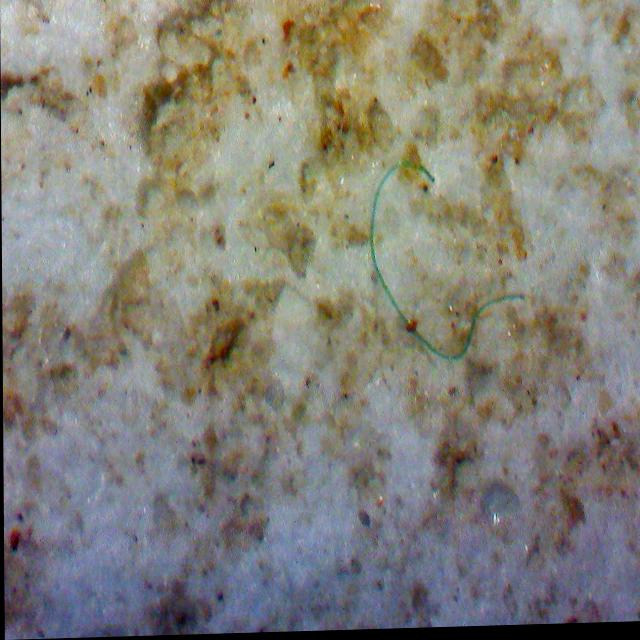microplastic: (369, 164, 483, 364)
